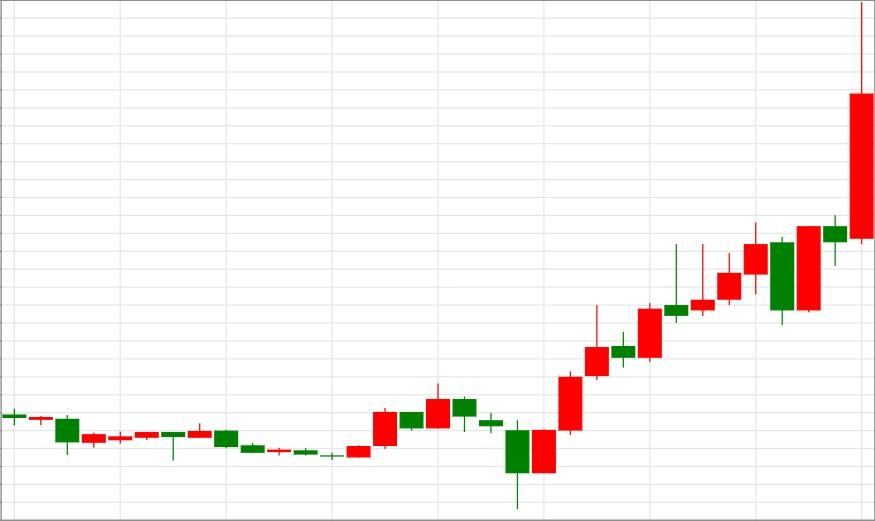three_white_soldiers_rise: (425, 305, 610, 510)
